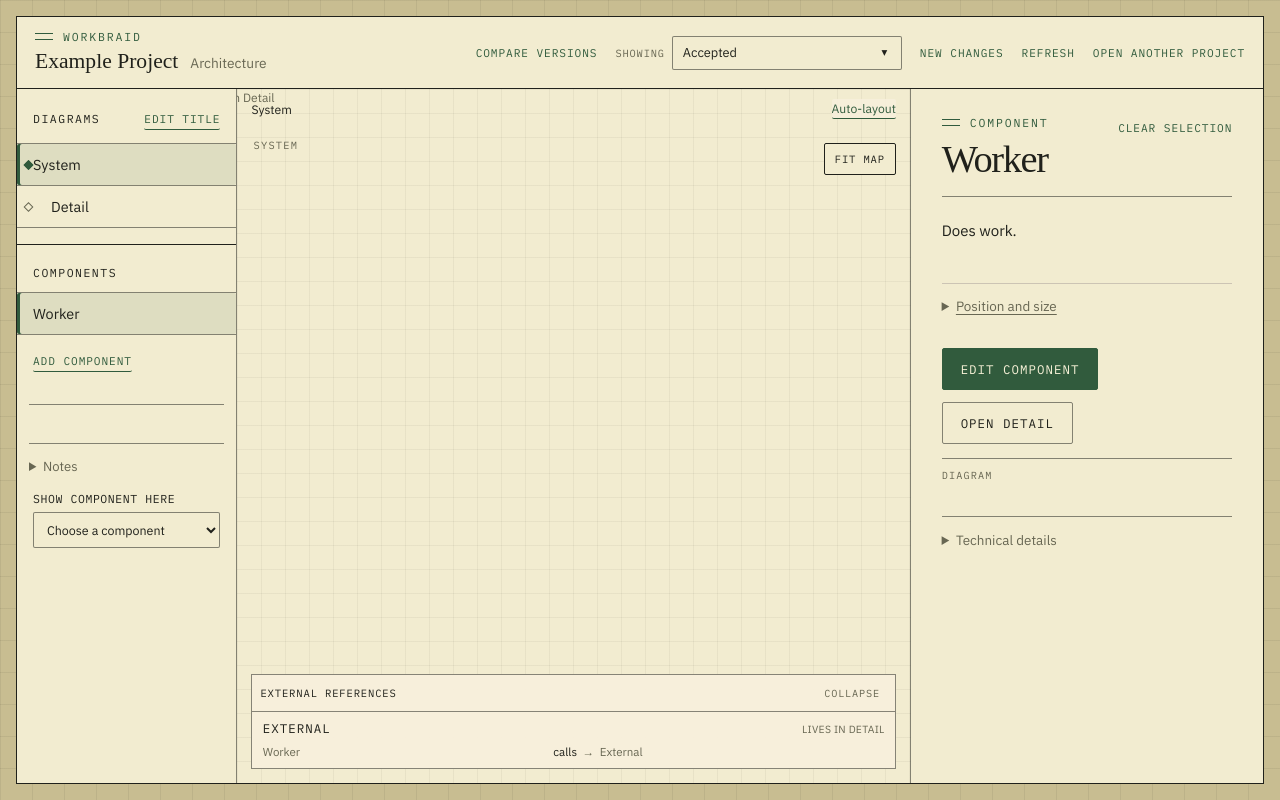
Test case: slug workspace and reusable references › protects browser-local dirty edits before returning to the catalog
Step 1. Click the button "Edit component" → (1020, 369), box [942, 348, 1098, 390]
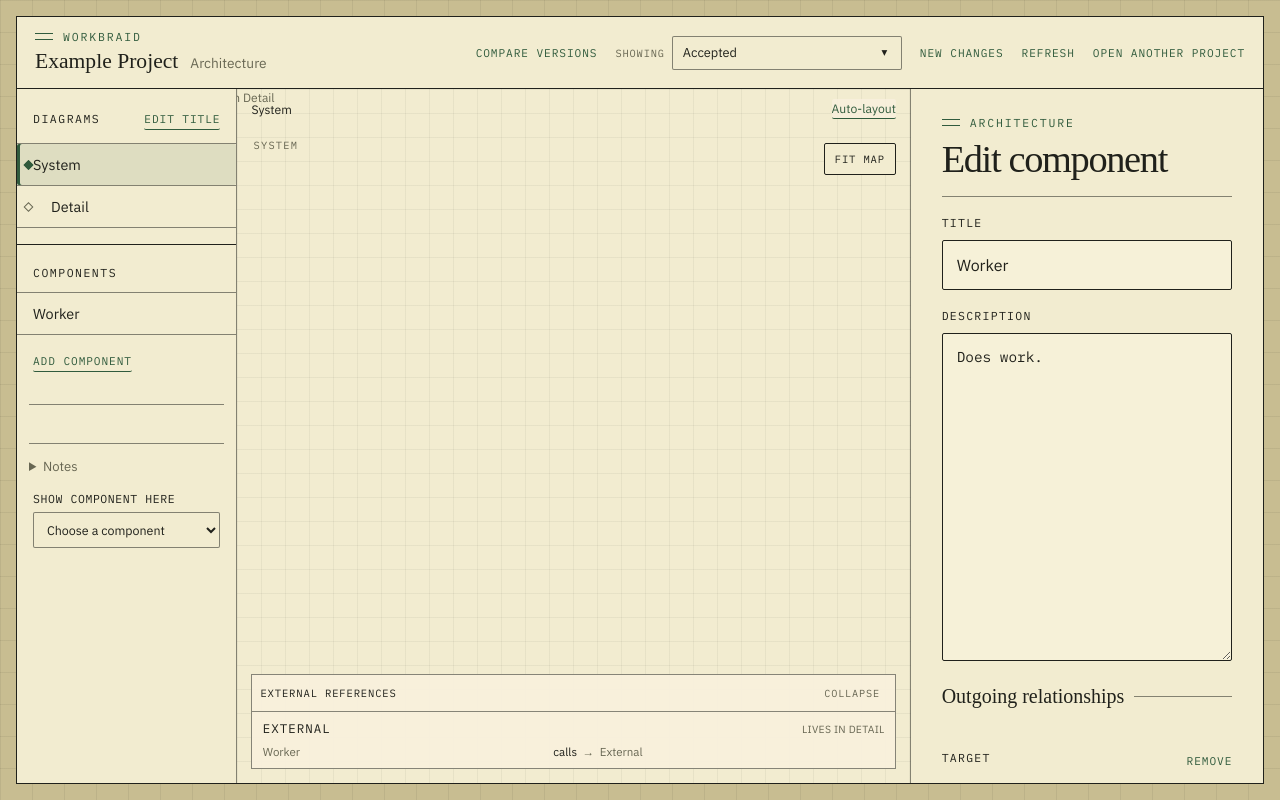
Step 2. Type " unsent" into the text box labelled "Description" → (1087, 497), box [942, 333, 1232, 661]
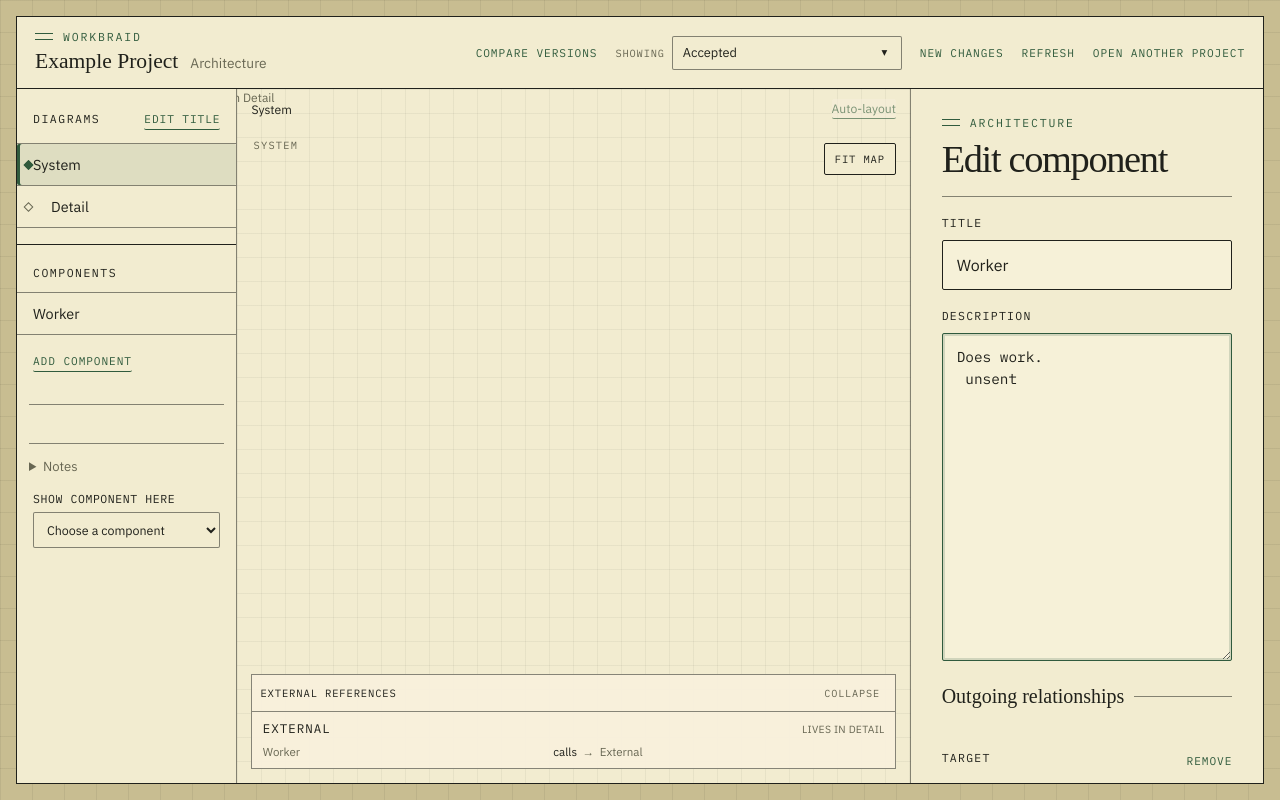
Step 3. Click the button "Open another project" → (1169, 52), box [1093, 42, 1245, 64]
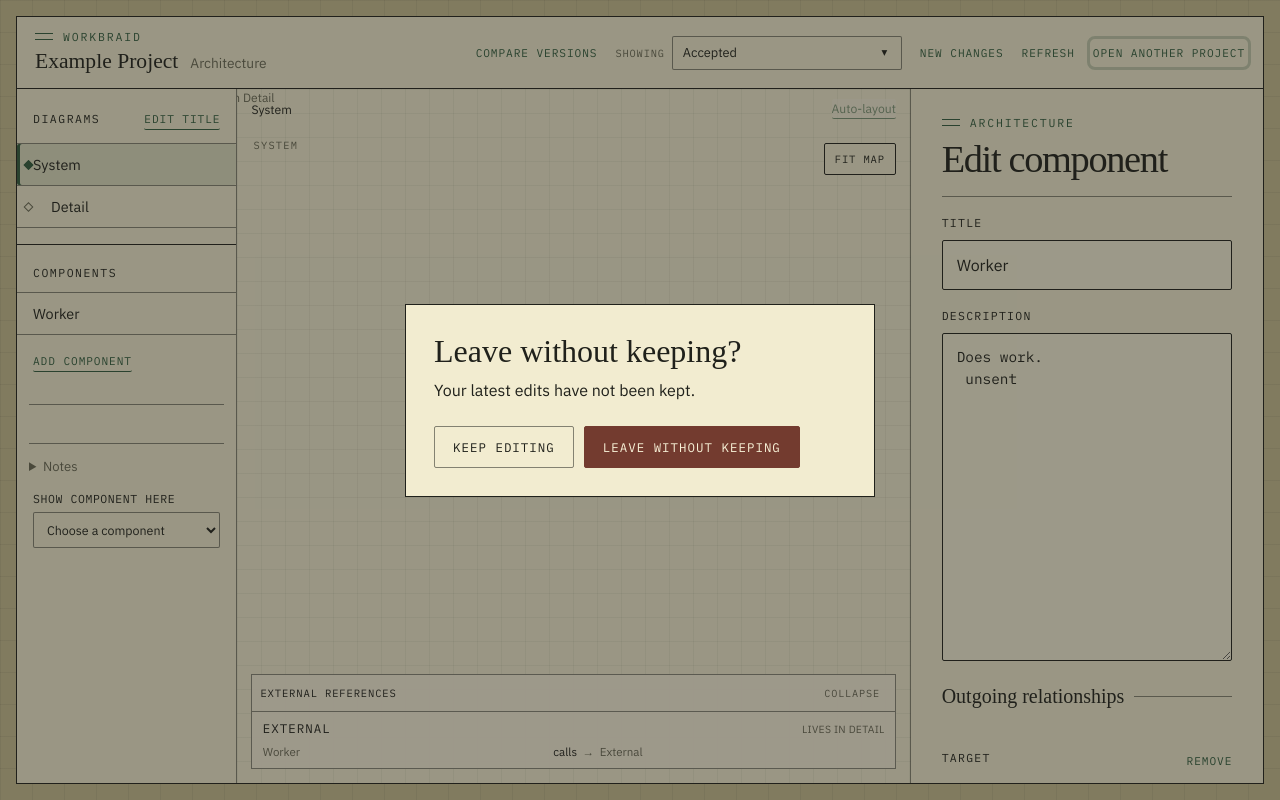
Result: the dialog "Leave without keeping?" is shown
Result: the button "Keep editing" is shown at [434, 426, 574, 468]
